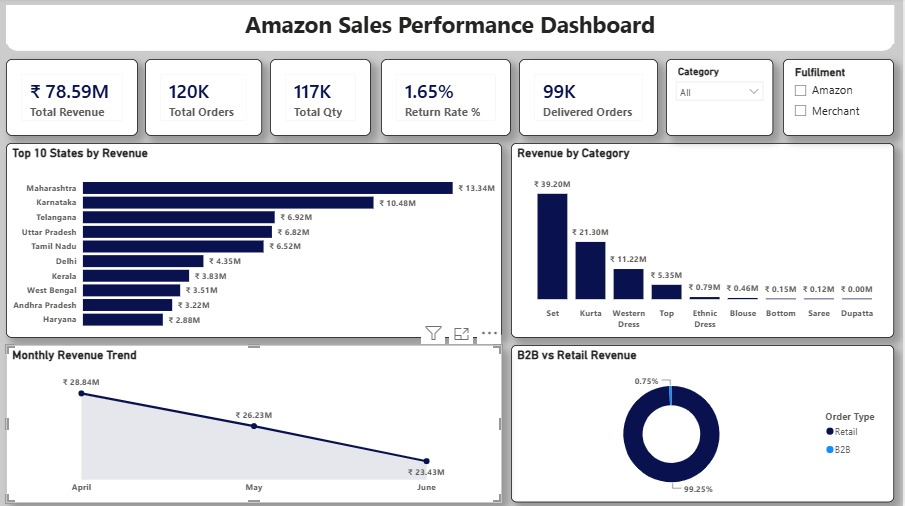

What the dashboard file says about the page in this screenshot:
{"tool":"powerbi","page":{"name":"Sales Overview","canvas":[1280,720],"ordinal":0},"visuals":[{"type":"shape","box":[9.9,9.9,1258.6,65.2],"z":0},{"type":"textbox","box":[9.9,9.9,1258.6,55.3],"z":1000},{"type":"cardVisual","fields":{"Data":["Table.Total Revenue"]},"box":[9.9,86.5,187.1,109.1],"z":2000},{"type":"cardVisual","fields":{"Data":["Table.Total Orders"]},"box":[206.9,86.5,165.8,109.1],"z":3000},{"type":"cardVisual","fields":{"Data":["Table.Total Qty"]},"box":[384.1,86.5,143.1,109.1],"z":4000},{"type":"cardVisual","fields":{"Data":["Table.Return Rate %"]},"box":[541.4,86.5,184.3,109.1],"z":5000},{"type":"cardVisual","fields":{"Data":["Table.Delivered Orders"]},"box":[737,86.5,197,109.1],"z":6000},{"type":"clusteredBarChart","title":"Top 10 States by Revenue","fields":{"Category":["Amazon Sale Report.ship-state"],"Y":["Table.Total Revenue"]},"box":[9.9,205.5,703,276.4],"z":7000},{"type":"clusteredColumnChart","title":"Revenue by Category","fields":{"Category":["Amazon Sale Report.Category"],"Y":["Table.Total Revenue"]},"box":[725.7,205.5,542.8,276.4],"z":8000},{"type":"lineChart","title":"Monthly Revenue Trend","fields":{"Category":["Amazon Sale Report.Date.Variation.Date Hierarchy.Month"],"Y":["Table.Total Revenue"]},"box":[9.9,491.8,703,223.9],"z":9000},{"type":"donutChart","title":"B2B vs Retail Revenue","fields":{"Y":["Table.Total Revenue"],"Category":["Amazon Sale Report.Order Type"]},"box":[725.7,491.8,542.8,222.5],"z":10000},{"type":"slicer","fields":{"Values":["Amazon Sale Report.Category"]},"box":[945.4,86.5,151.7,109.1],"z":11000},{"type":"slicer","fields":{"Values":["Amazon Sale Report.Fulfilment"]},"box":[1111.2,86.5,157.3,109.1],"z":12000}]}

Visuals, with their boxes in screenshot pixels (x1, y1, x2, y2), scaled from the page's 1280x720 canvas onto the 905x506 screenshot:
shape: {"x1": 7, "y1": 7, "x2": 897, "y2": 53}
textbox: {"x1": 7, "y1": 7, "x2": 897, "y2": 46}
cardVisual - Table.Total Revenue: {"x1": 7, "y1": 61, "x2": 139, "y2": 137}
cardVisual - Table.Total Orders: {"x1": 146, "y1": 61, "x2": 264, "y2": 137}
cardVisual - Table.Total Qty: {"x1": 272, "y1": 61, "x2": 373, "y2": 137}
cardVisual - Table.Return Rate %: {"x1": 383, "y1": 61, "x2": 513, "y2": 137}
cardVisual - Table.Delivered Orders: {"x1": 521, "y1": 61, "x2": 660, "y2": 137}
"Top 10 States by Revenue" clusteredBarChart: {"x1": 7, "y1": 144, "x2": 504, "y2": 339}
"Revenue by Category" clusteredColumnChart: {"x1": 513, "y1": 144, "x2": 897, "y2": 339}
"Monthly Revenue Trend" lineChart: {"x1": 7, "y1": 346, "x2": 504, "y2": 503}
"B2B vs Retail Revenue" donutChart: {"x1": 513, "y1": 346, "x2": 897, "y2": 502}
slicer - Amazon Sale Report.Category: {"x1": 668, "y1": 61, "x2": 776, "y2": 137}
slicer - Amazon Sale Report.Fulfilment: {"x1": 786, "y1": 61, "x2": 897, "y2": 137}
